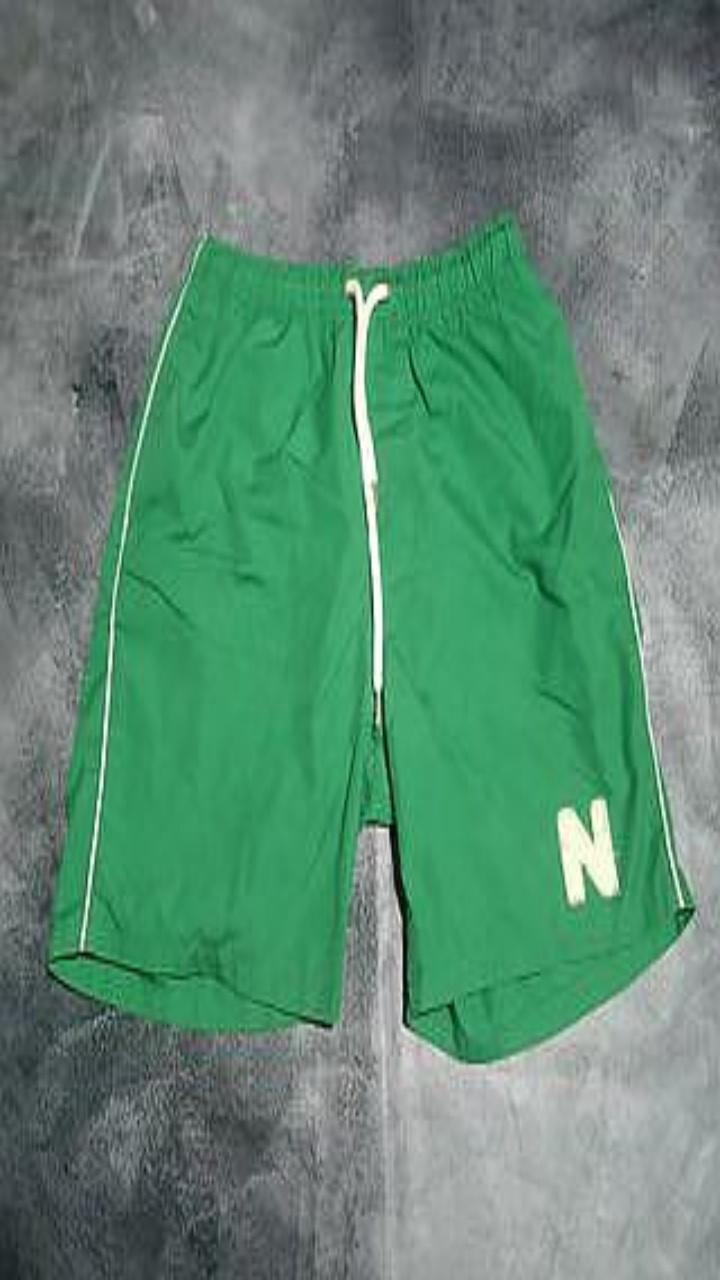Shorts: (47, 213, 694, 1060)
